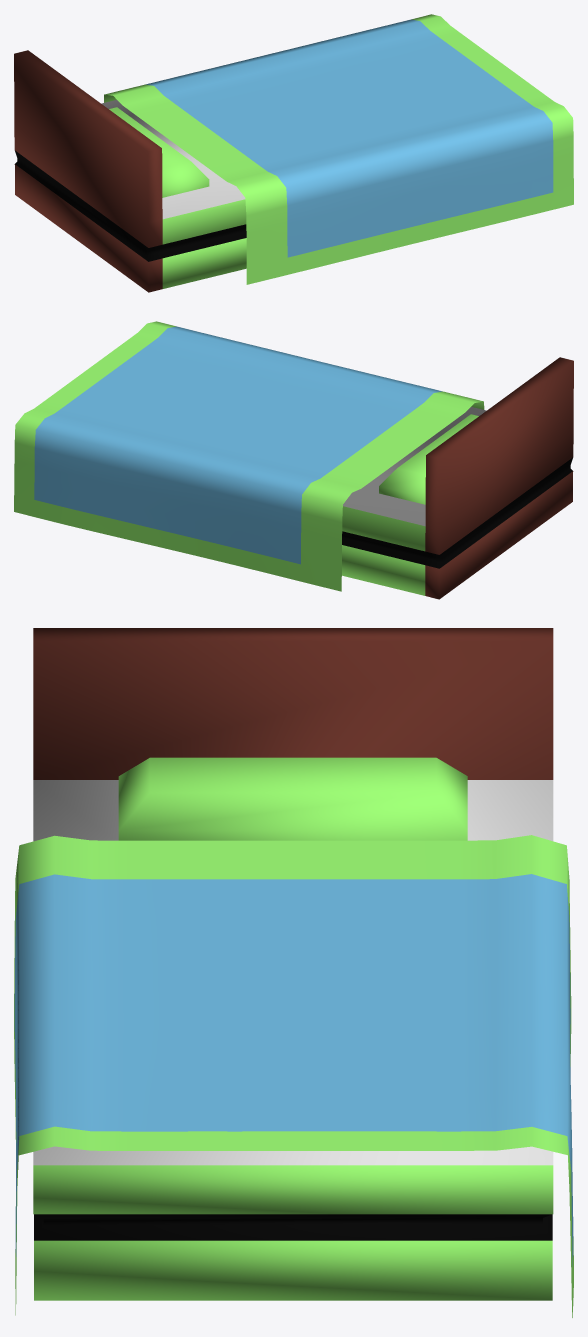
The model's file is NormalBed4.fbx.
3 views of the same model, one above another, from view 1: azimuth 30°, elevation 25°; view 2: azimuth 150°, elevation 25°; view 3: azimuth 270°, elevation 25° (orthographic). The views are drawn at different scales.
Parts seen in each view (by area): view 1: Plane, Cube; view 2: Plane, Cube; view 3: Cube, Plane.
Part boxes in pixels (left/top/right/bottom): Plane: left=104, top=14, right=573, bottom=284; Cube: left=14, top=50, right=246, bottom=292; Plane: left=14, top=321, right=484, bottom=591; Cube: left=342, top=357, right=573, bottom=599; Cube: left=33, top=628, right=553, bottom=1300; Plane: left=14, top=835, right=573, bottom=1317.
Size of the model in its own units: 206 by 122 by 71.19.
